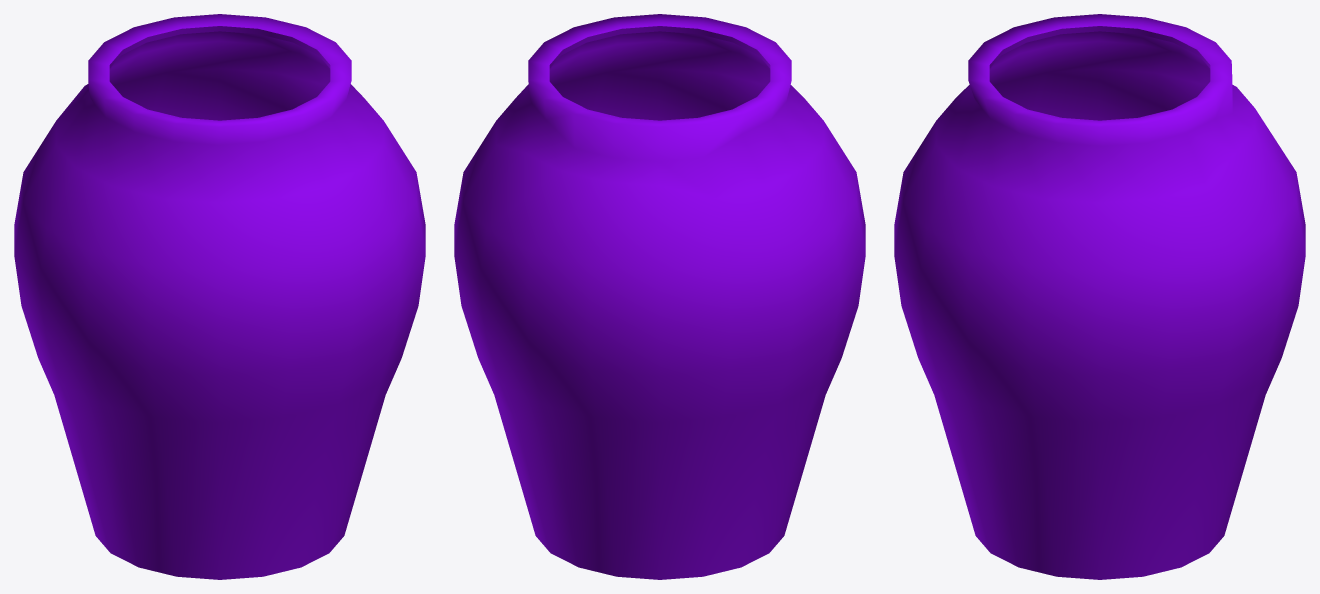
Rendered from OU_AR_Ceramic_Vase_01_D.fbx.
The picture shows the model from 3 angles, left to right: view 1: azimuth 30°, elevation 25°; view 2: azimuth 150°, elevation 25°; view 3: azimuth 270°, elevation 25°; orthographic projection.
Parts seen in each view (by area): view 1: Oil_ceramic_vase; view 2: Oil_ceramic_vase; view 3: Oil_ceramic_vase.
Part boxes in pixels (x1,y1,x2,y2): Oil_ceramic_vase: (14, 14, 425, 579); Oil_ceramic_vase: (454, 14, 865, 579); Oil_ceramic_vase: (894, 14, 1305, 579).
Size of the model in its own units: 58.3 by 70.22 by 57.41.
